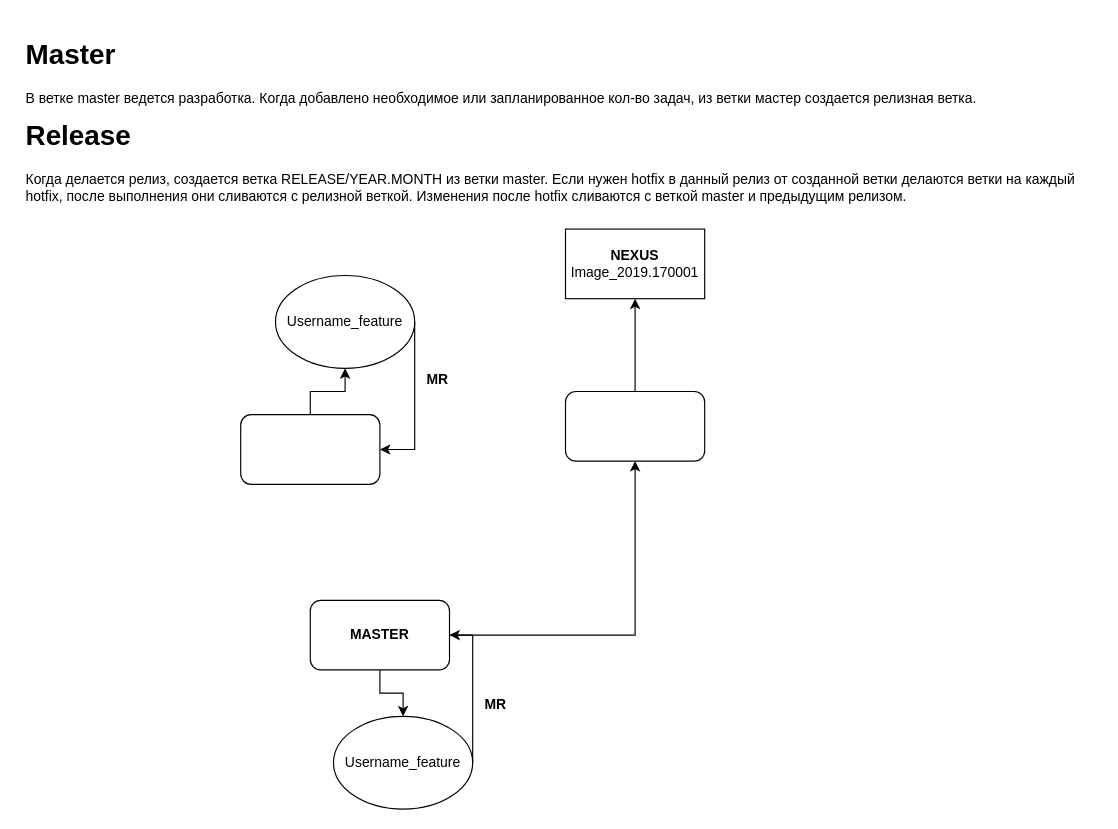
Image size: 1118x829. Some labels were removed from this diagram. The shapes that lost their labels are listed below. From the top down, each one's box as (x1, y1, x2, y2) in pixels, then its label:
(564, 390, 705, 461): RELEASE/2019.17
(240, 414, 380, 484): RELEASE/2019.16
